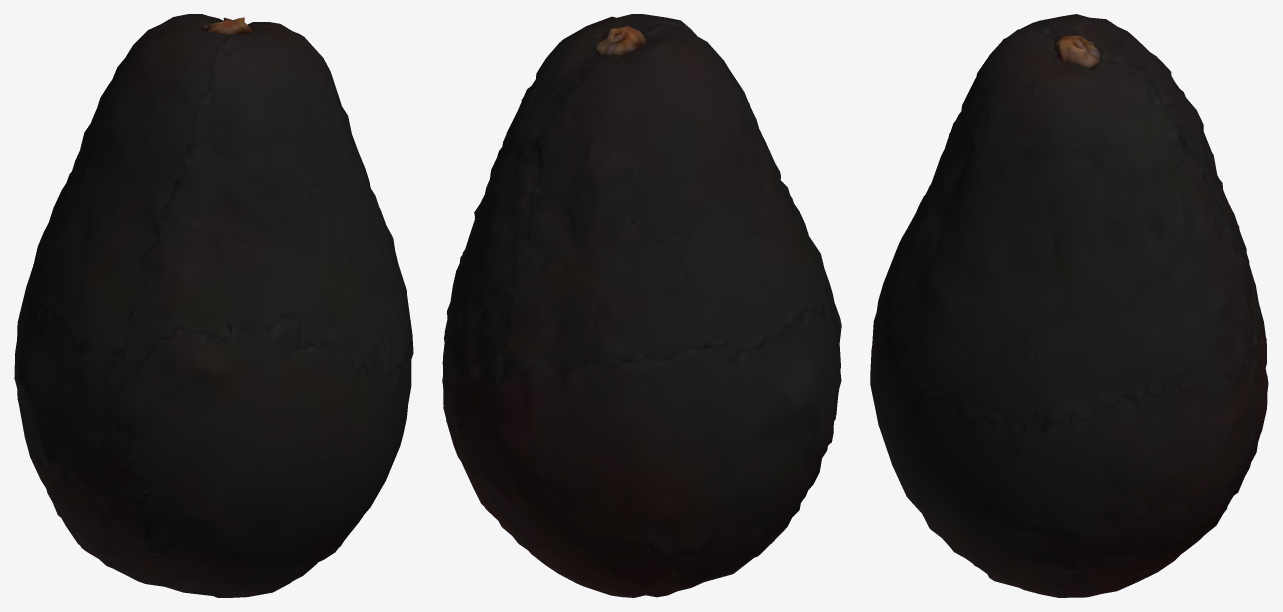
The model's file is food_avocado_01.glb.
3 views of the same model, side by side, from view 1: azimuth 30°, elevation 25°; view 2: azimuth 150°, elevation 25°; view 3: azimuth 270°, elevation 25° (orthographic). The views are drawn at different scales.
Parts seen in each view (by area): view 1: food_avocado_01; view 2: food_avocado_01; view 3: food_avocado_01.
Part boxes in pixels (x1=…): food_avocado_01: x1=14, y1=14, x2=413, y2=597; food_avocado_01: x1=442, y1=14, x2=841, y2=597; food_avocado_01: x1=870, y1=14, x2=1268, y2=597.
Bounding box in the file's own units: 0.0951 × 0.1432 × 0.0946.
1 material, 1 textured.
